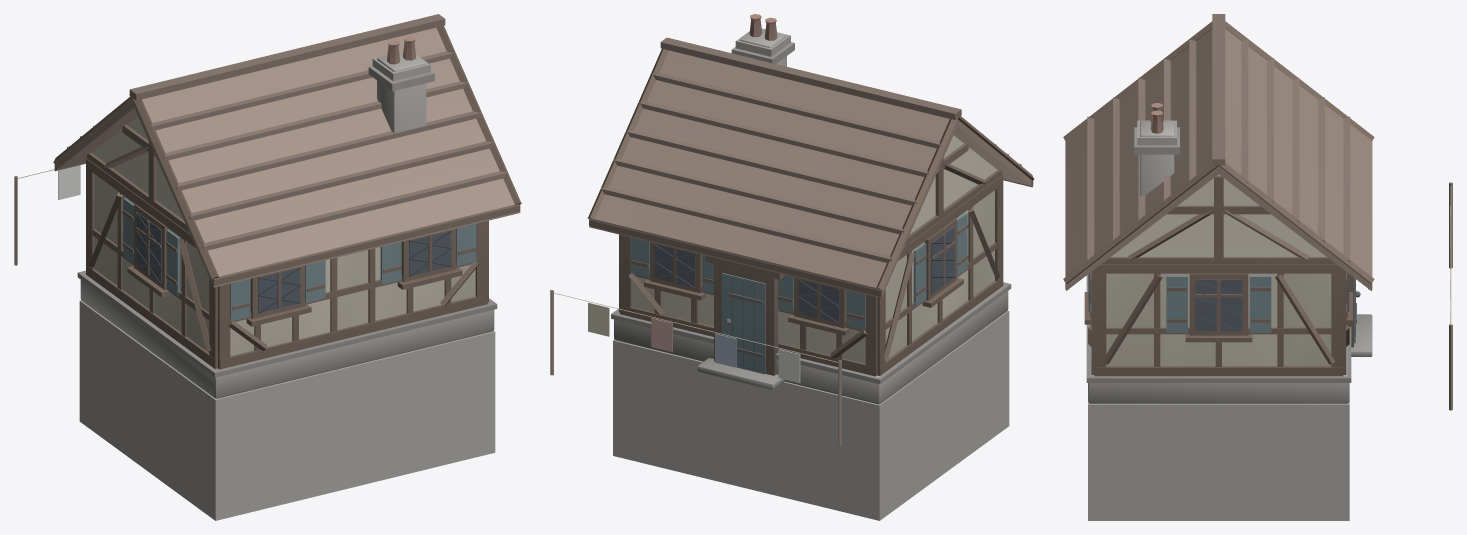
The model's file is house_0_2.gltf.
3 renders of one model, left to right at view 1: azimuth 30°, elevation 25°; view 2: azimuth 150°, elevation 25°; view 3: azimuth 270°, elevation 25°, orthographic. The views are drawn at different scales.
Parts seen in each view (by area): view 1: Body; view 2: Body; view 3: Body.
Part boxes in pixels (<box>): Body: <box>14,14,521,520</box>; Body: <box>550,14,1034,520</box>; Body: <box>1063,14,1452,520</box>.
Bounding box in the file's own units: 6.97 × 8.6 × 7.9.
